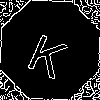K: (25, 25, 74, 80)
